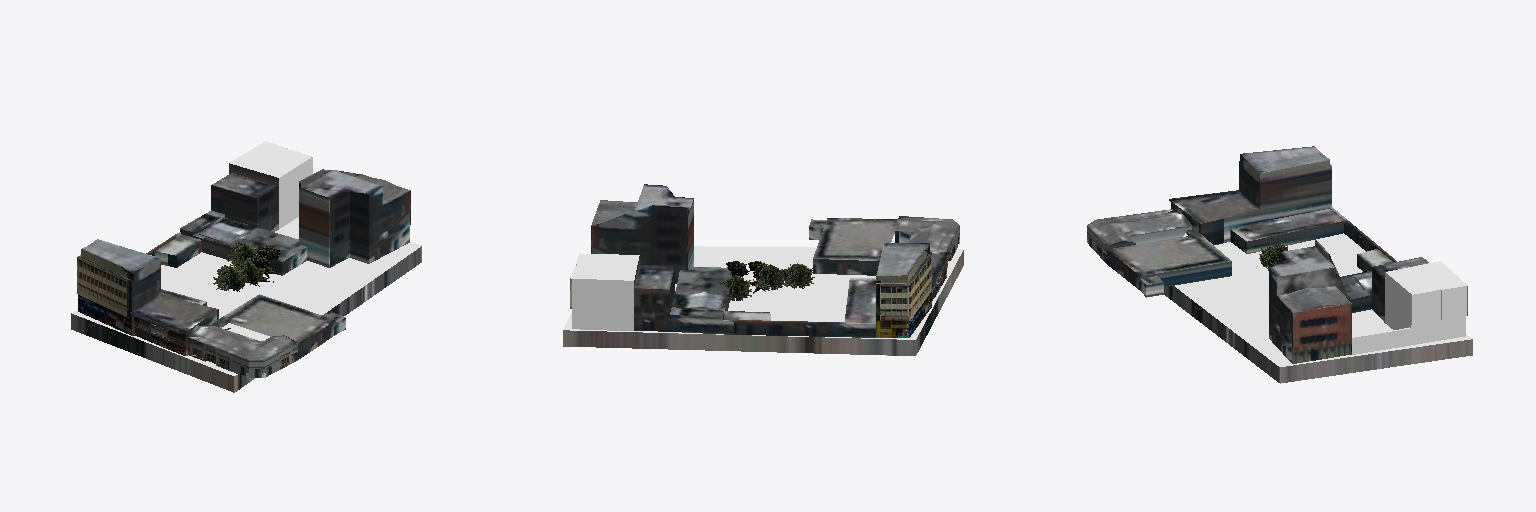
3 views of the same model, side by side, from view 1: azimuth 30°, elevation 25°; view 2: azimuth 150°, elevation 25°; view 3: azimuth 270°, elevation 25° (orthographic).
Parts seen in each view (by area): view 1: Mesh21 Model; view 2: Mesh21 Model; view 3: Mesh21 Model.
Part boxes in pixels (bbox=[...]): Mesh21 Model: bbox=[71, 141, 421, 392]; Mesh21 Model: bbox=[563, 184, 963, 355]; Mesh21 Model: bbox=[1087, 146, 1472, 383].
Size of the model in its own units: 3506 by 938 by 3520.
30 materials, 21 textured.